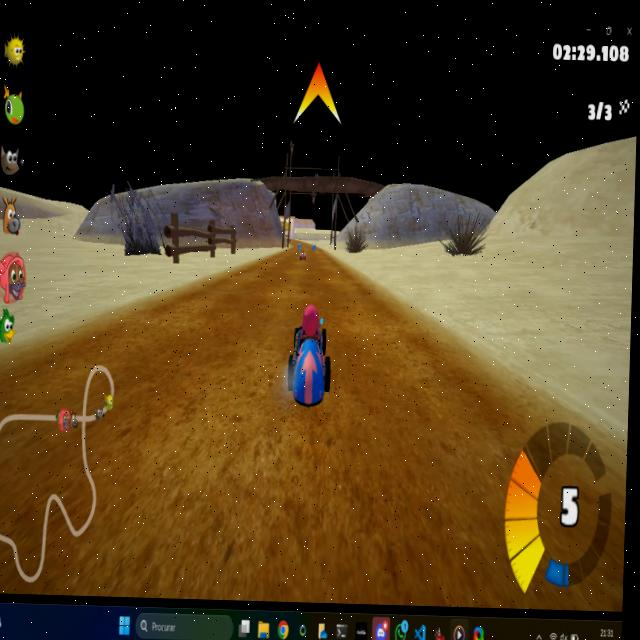bonus: (309, 240, 317, 253)
enemy_kart: (297, 254, 307, 264)
player_kart: (285, 309, 333, 405)
track: (271, 409, 628, 610), (0, 372, 283, 605), (120, 309, 286, 382), (331, 318, 450, 418), (259, 261, 365, 306), (451, 350, 523, 416), (78, 328, 132, 377), (204, 276, 263, 319), (339, 301, 413, 315), (172, 287, 203, 313), (364, 283, 395, 301), (241, 260, 263, 277), (278, 248, 294, 261), (291, 235, 299, 242)
